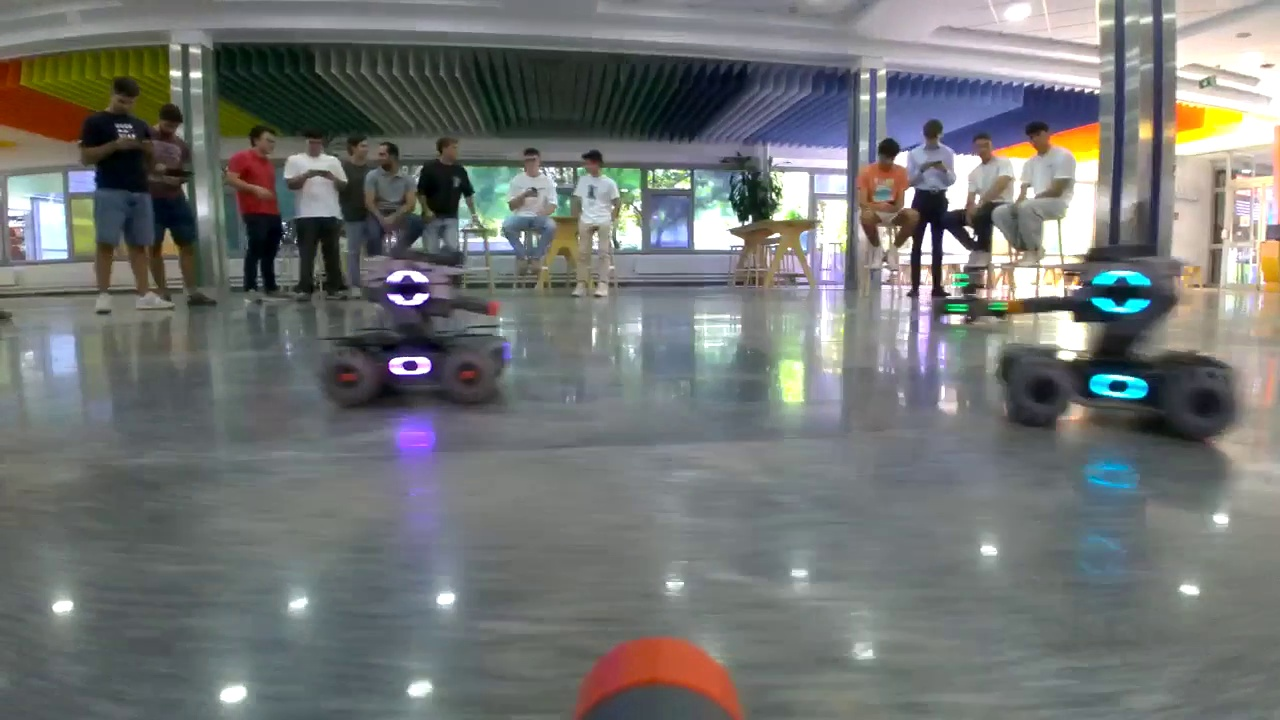robot: (994, 248, 1238, 441), (325, 259, 509, 410), (931, 262, 1009, 327)
